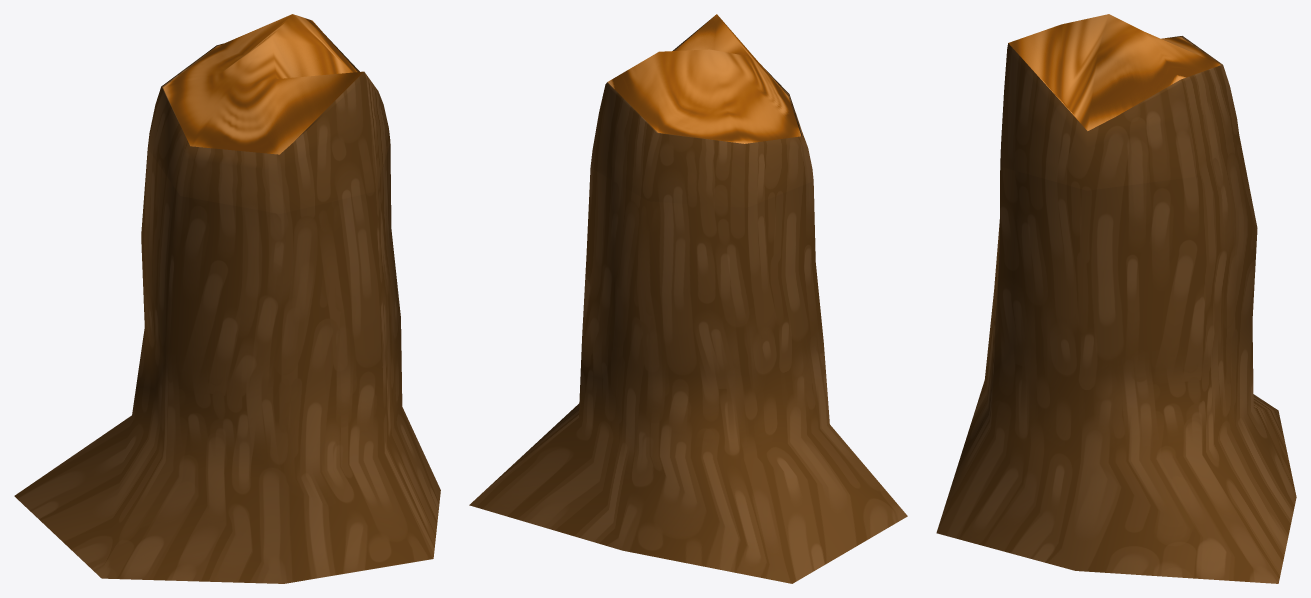
Rendered from conifer-stump.fbx.
The picture shows the model from 3 angles, left to right: view 1: azimuth 30°, elevation 25°; view 2: azimuth 150°, elevation 25°; view 3: azimuth 270°, elevation 25°; orthographic projection. The views are drawn at different scales.
Visible parts, largest first — view 1: LOD0; view 2: LOD0; view 3: LOD0.
Part boxes in pixels (left/top/right/bottom): LOD0: left=14, top=14, right=440, bottom=583; LOD0: left=469, top=14, right=907, bottom=583; LOD0: left=936, top=14, right=1296, bottom=583.
Size of the model in its own units: 117 by 144 by 97.45.
